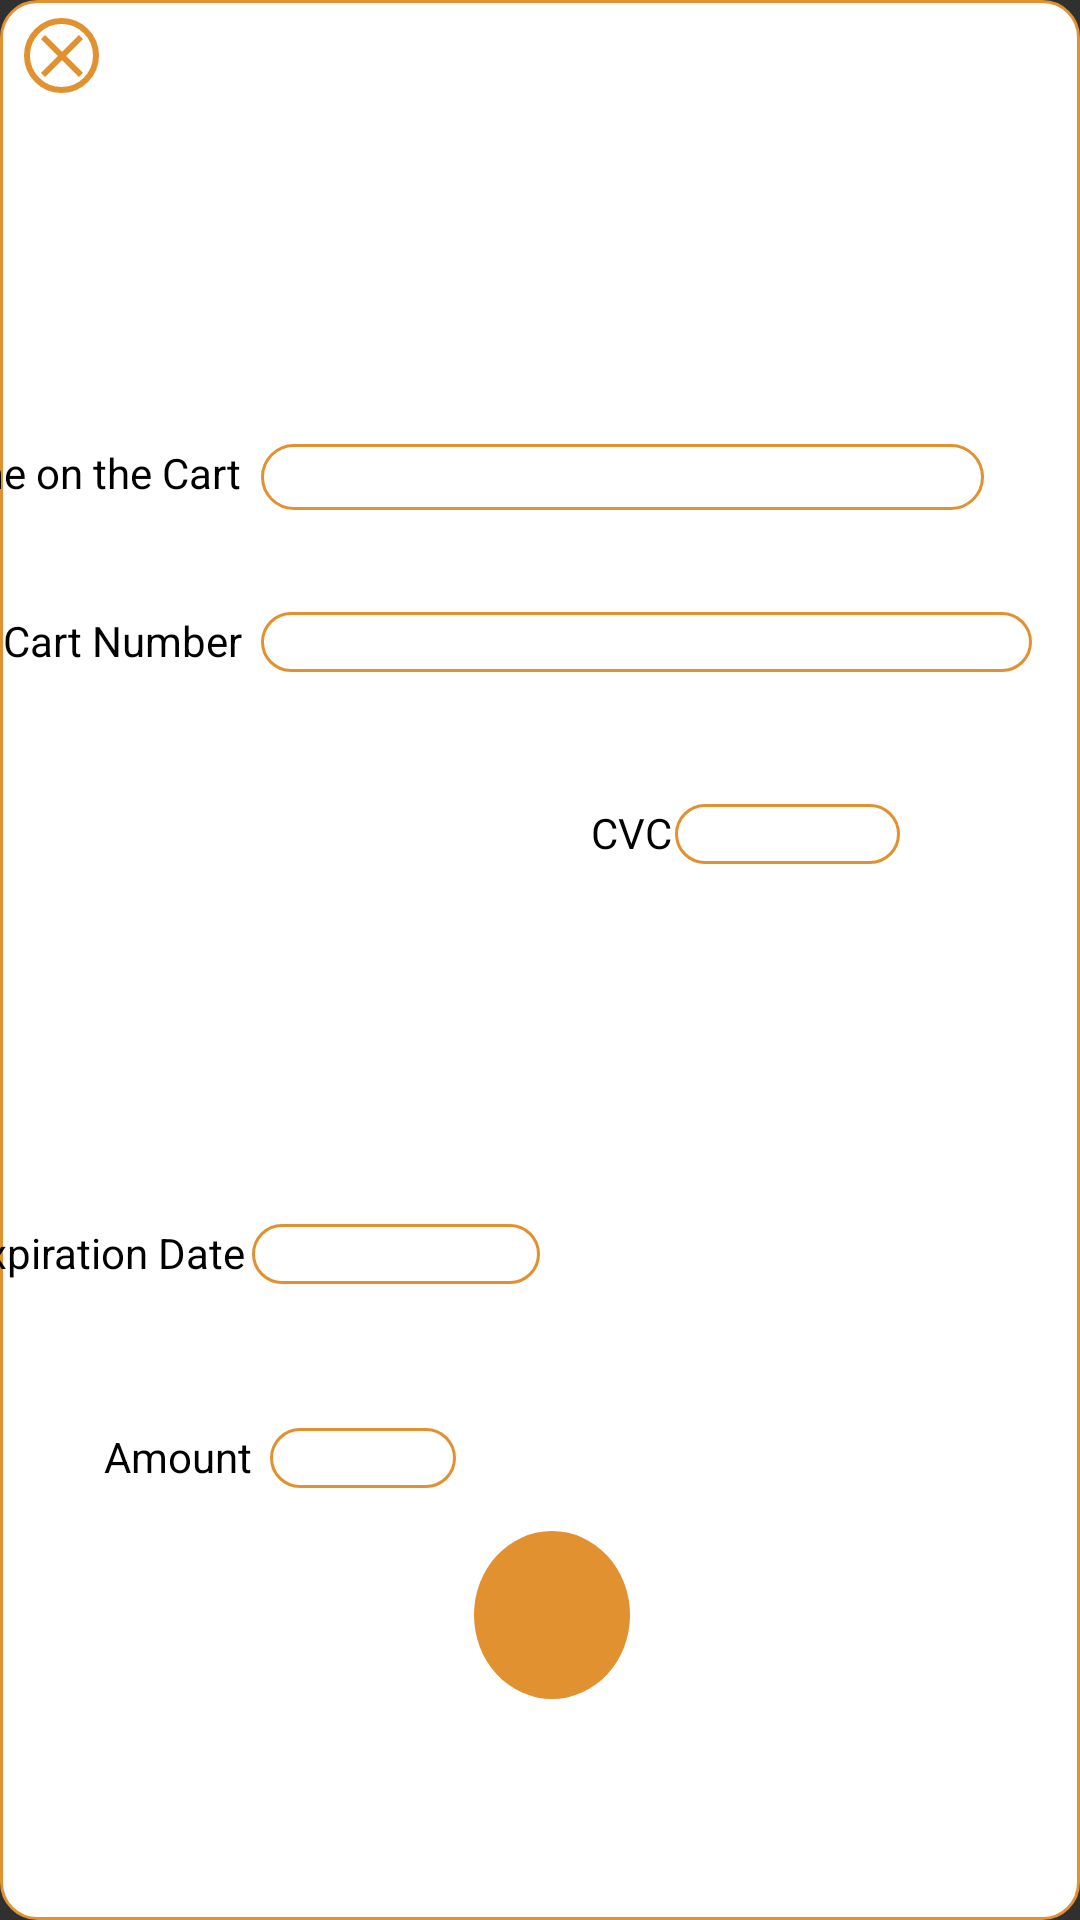

Screen size 1080×1920. Icon name, then its box in pixels as (x1, y1, x2, y2):
close: (24, 18, 99, 93)
